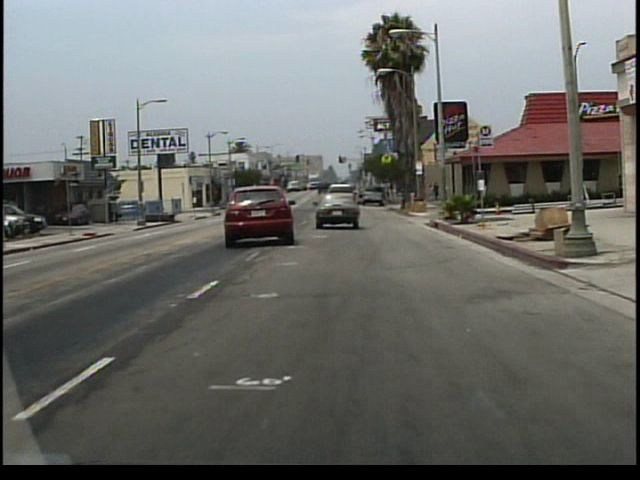person: (433, 181, 441, 201), (427, 183, 434, 203)
